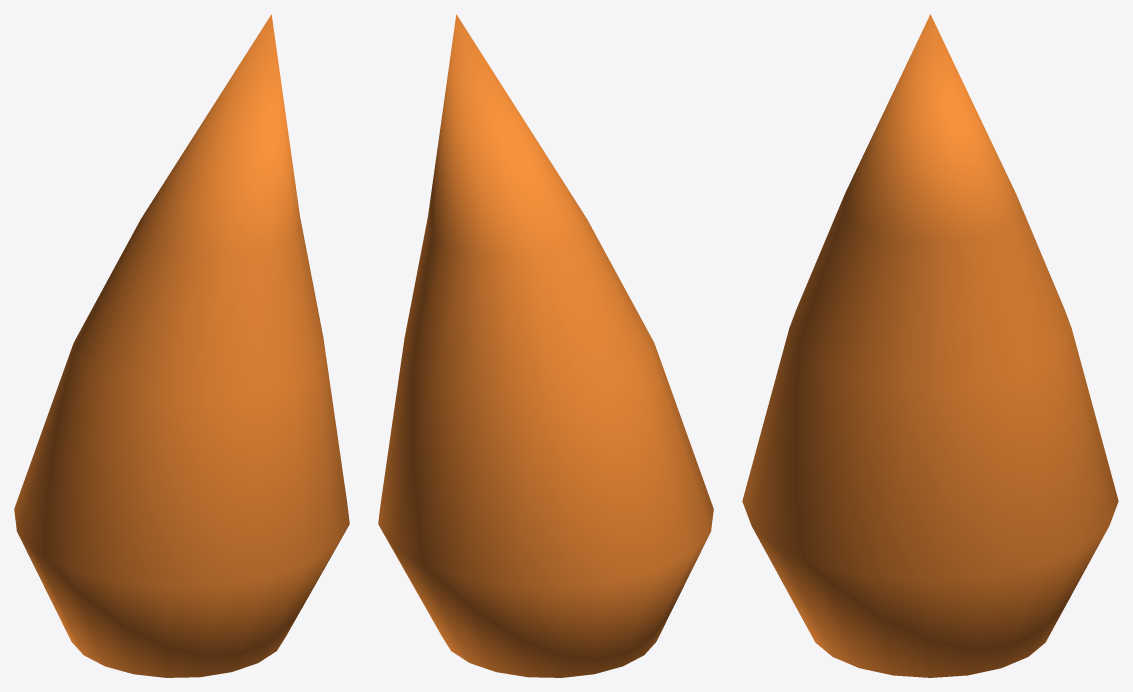
The model's file is flame-lobe.obj.
3 renders of one model, left to right at view 1: azimuth 30°, elevation 25°; view 2: azimuth 150°, elevation 25°; view 3: azimuth 270°, elevation 25°, orthographic. The views are drawn at different scales.
Visible parts, largest first — view 1: flame-lobe_carrot; view 2: flame-lobe_carrot; view 3: flame-lobe_carrot.
Boxes of the visible parts, x1,y1,x2,y2 form: flame-lobe_carrot: (14,14,349,677); flame-lobe_carrot: (378,14,713,677); flame-lobe_carrot: (742,14,1118,677).
Bounding box in the file's own units: 0.28 × 0.56 × 0.28.
